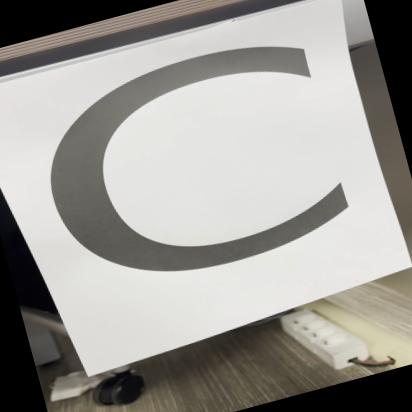seat: (0, 0, 412, 386)
